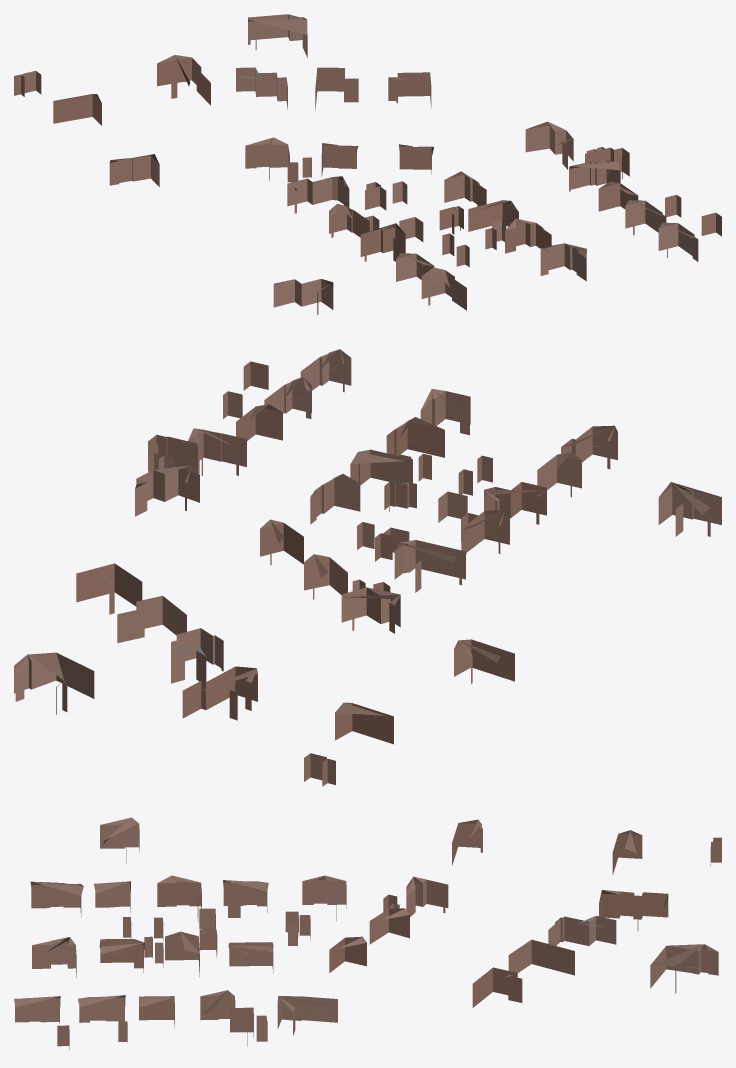
Rendered from c_1648_17830_buildings_residential.glb.
The picture shows the model from 3 angles, top to bottom: view 1: azimuth 30°, elevation 25°; view 2: azimuth 150°, elevation 25°; view 3: azimuth 270°, elevation 25°; orthographic projection. The views are drawn at different scales.
Parts seen in each view (by area): view 1: geometry_0; view 2: geometry_0; view 3: geometry_0.
Boxes of the visible parts, x1,y1,x2,y2 form: geometry_0: (14, 14, 721, 314); geometry_0: (14, 349, 721, 786); geometry_0: (14, 817, 721, 1049).
Size of the model in its own units: 173 by 10.94 by 249.
